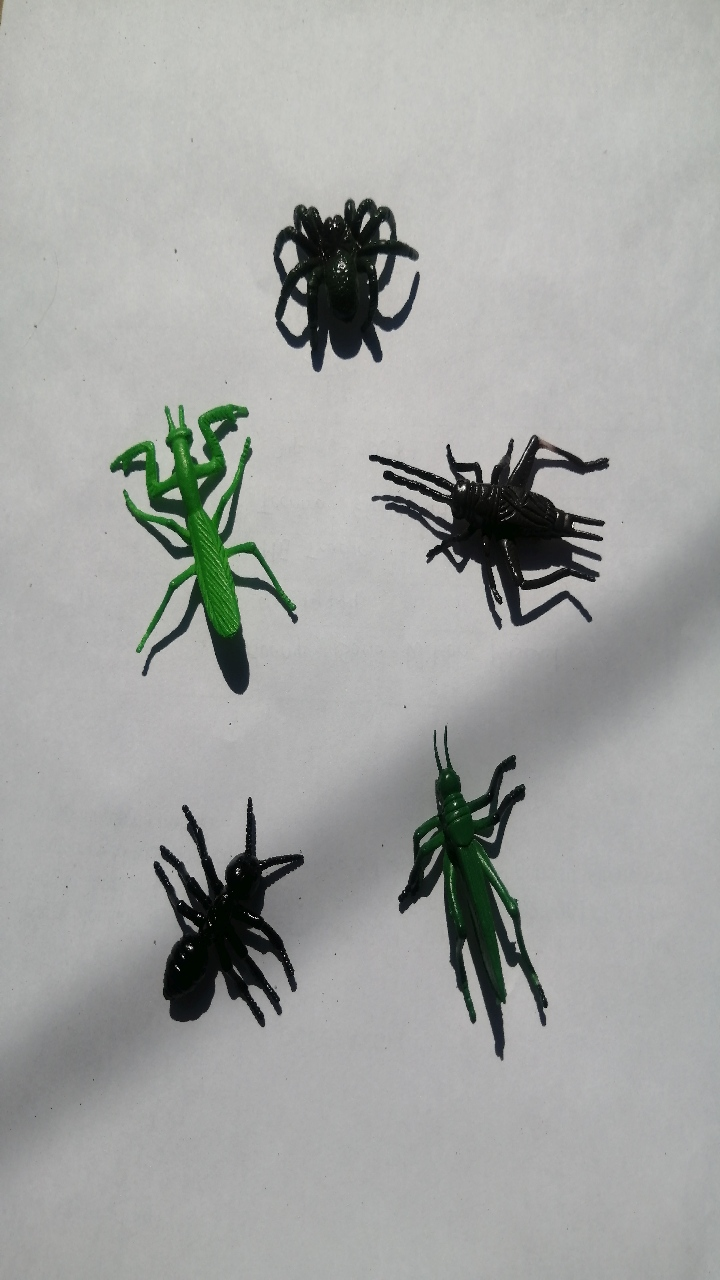intruso: (374, 692, 580, 1079), (348, 400, 640, 669), (89, 365, 304, 691), (108, 777, 309, 1072), (234, 148, 441, 386)
